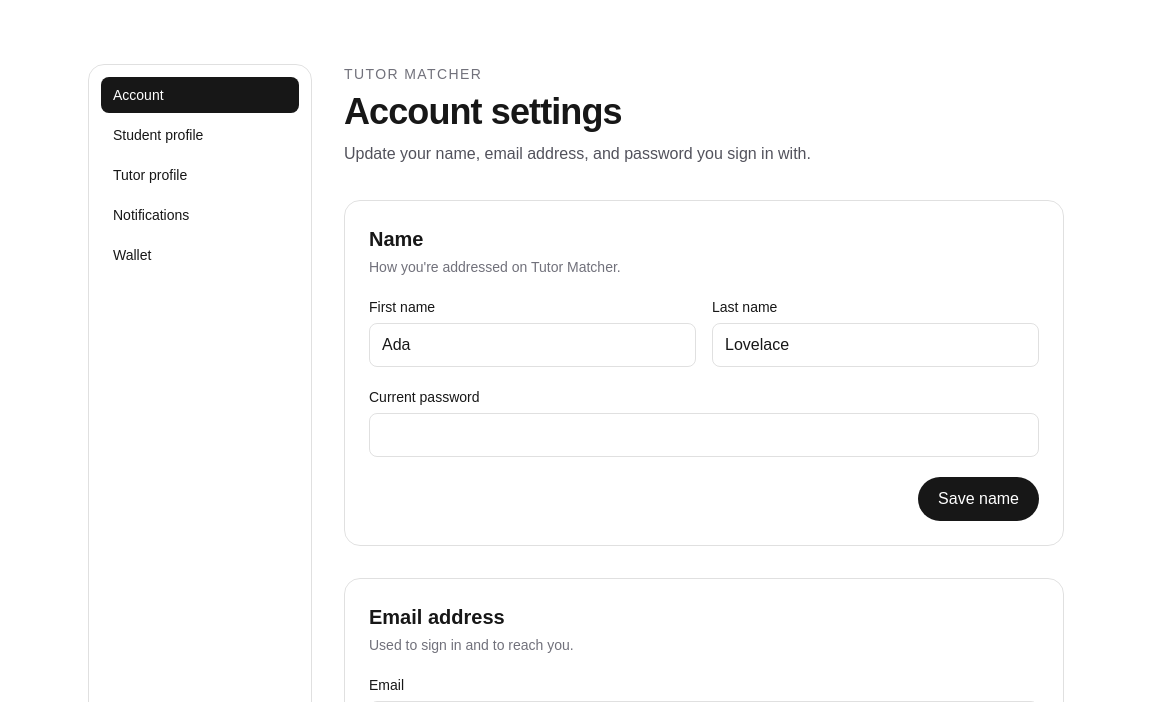
Test: AccountSettingsPage › name block › saves a new name and stores the reissued token
This screenshot has width=1152, height=702.
Step 1. Replace the text in the field labelled "First name" with "Grace" → (532, 345), box [369, 323, 696, 367]
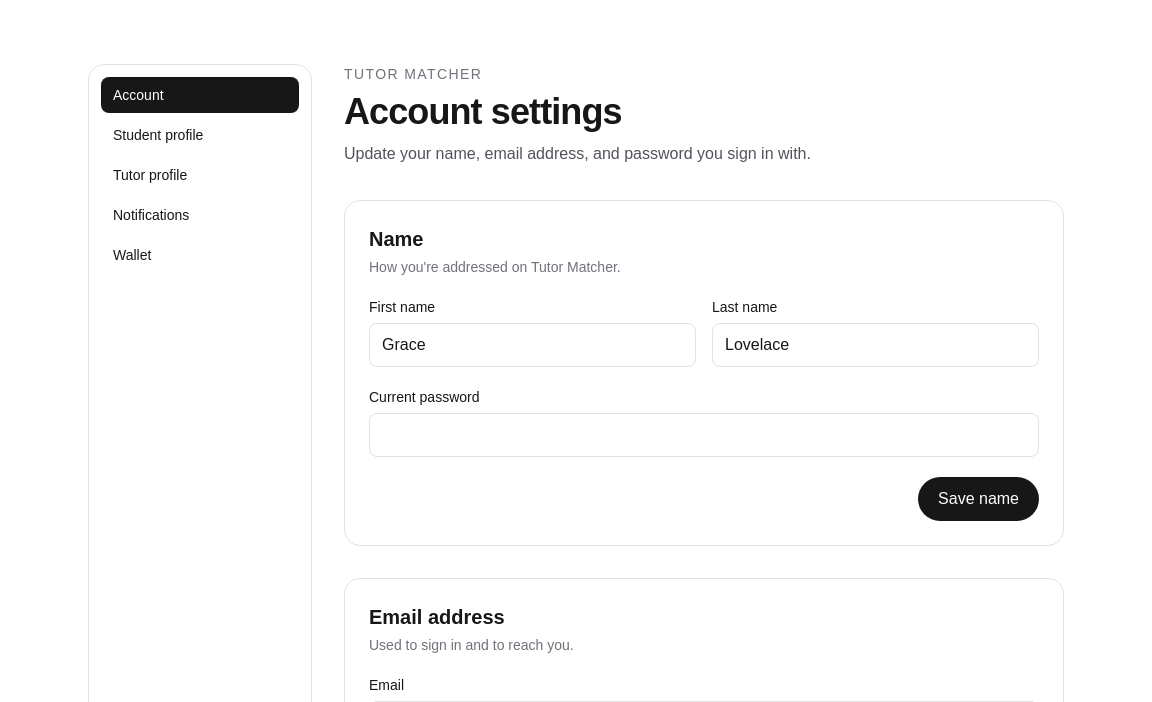
Step 2. Replace the text in the field labelled "Last name" with "Hopper" → (876, 345), box [712, 323, 1039, 367]
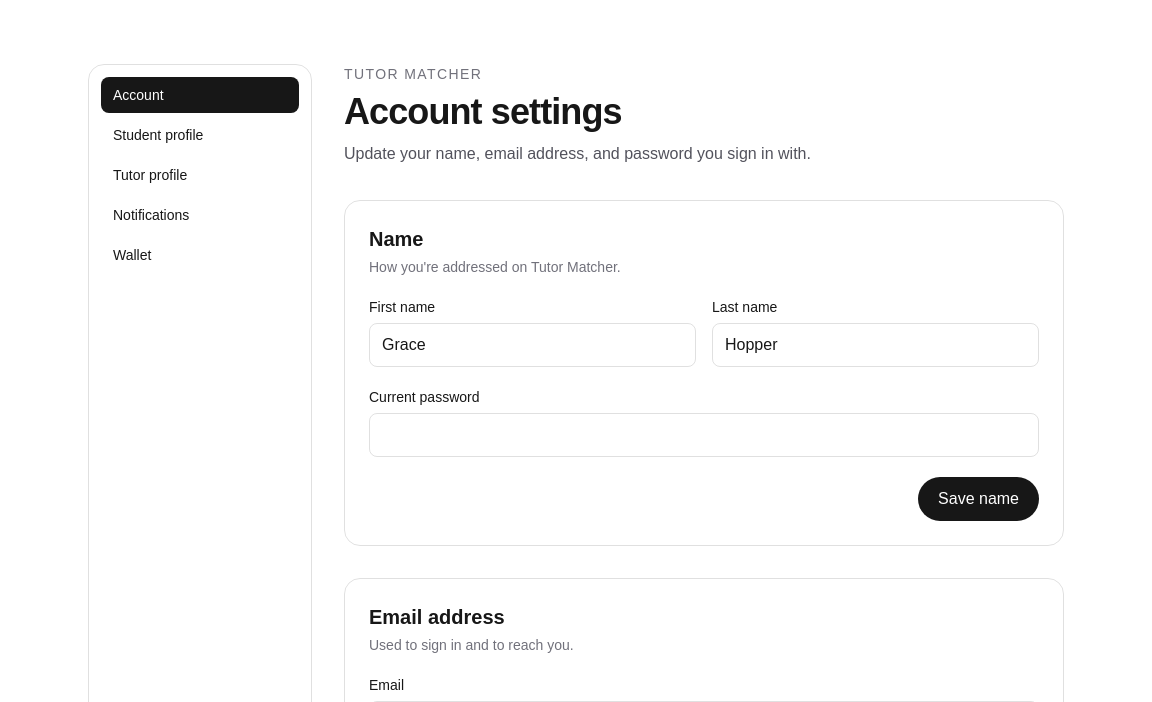
Step 3. Type "current-password" into the password field labelled "Current password" → (704, 435), box [369, 413, 1039, 457]
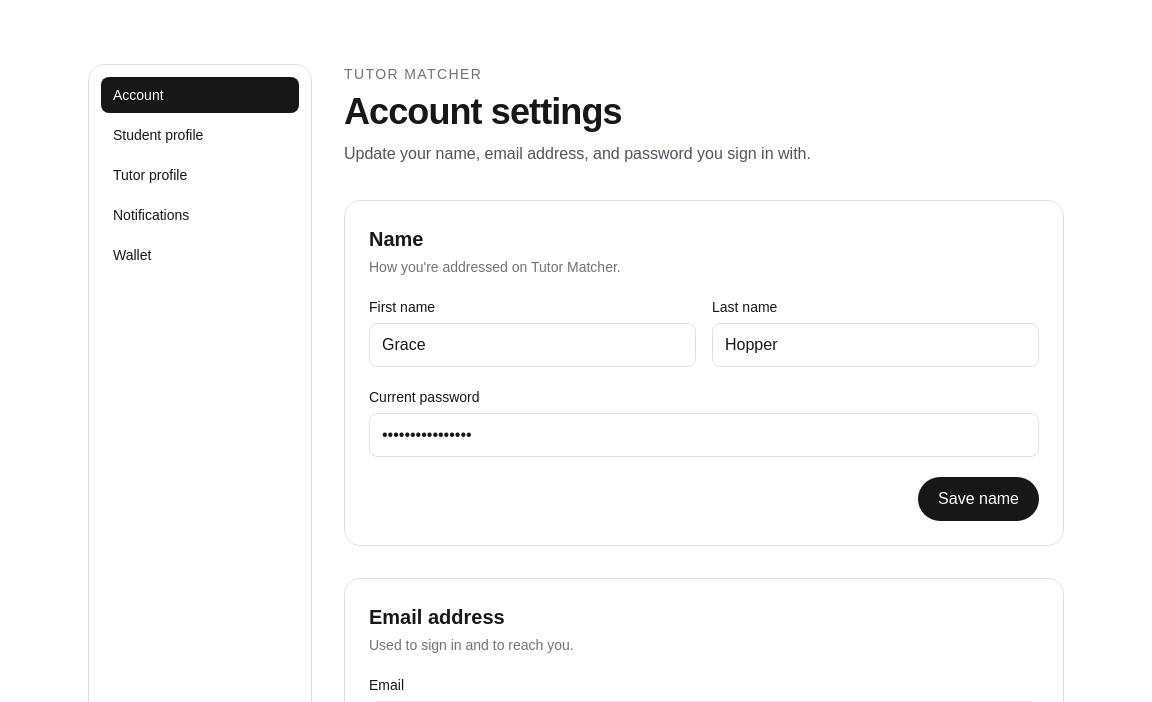
Step 4. Click the button "Save name" → (979, 499), box [918, 477, 1039, 521]
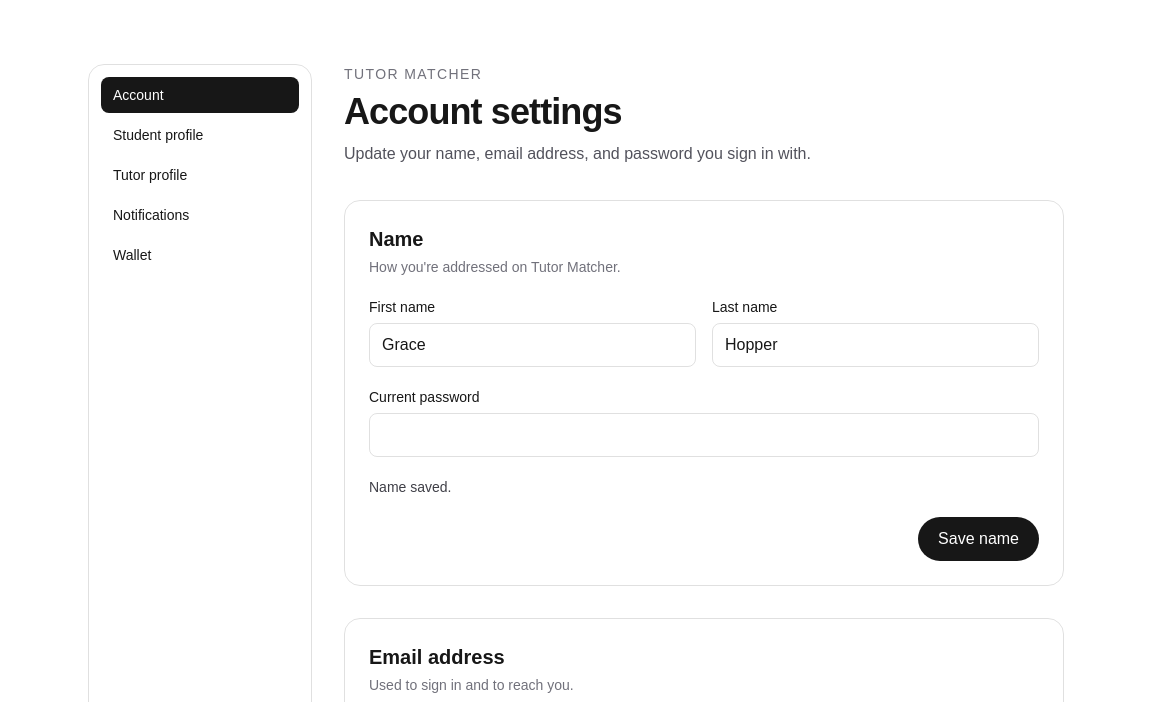
Result: the text "Name saved." is shown at [369, 479, 452, 495]
